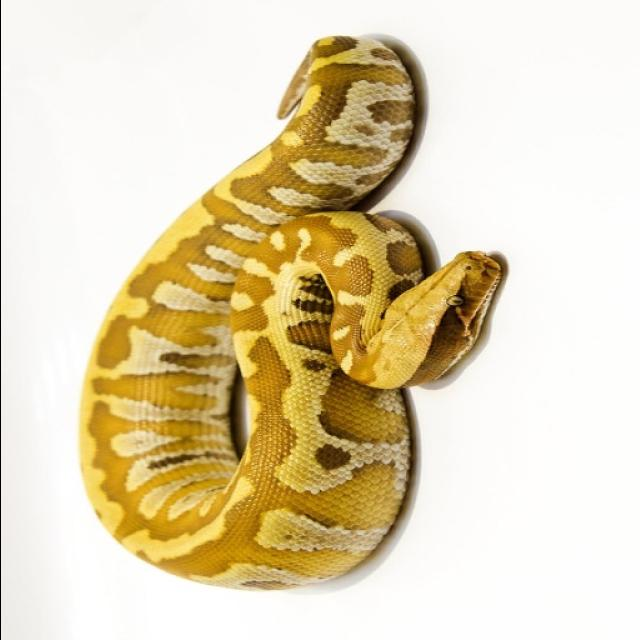snake: (66, 20, 509, 602)
